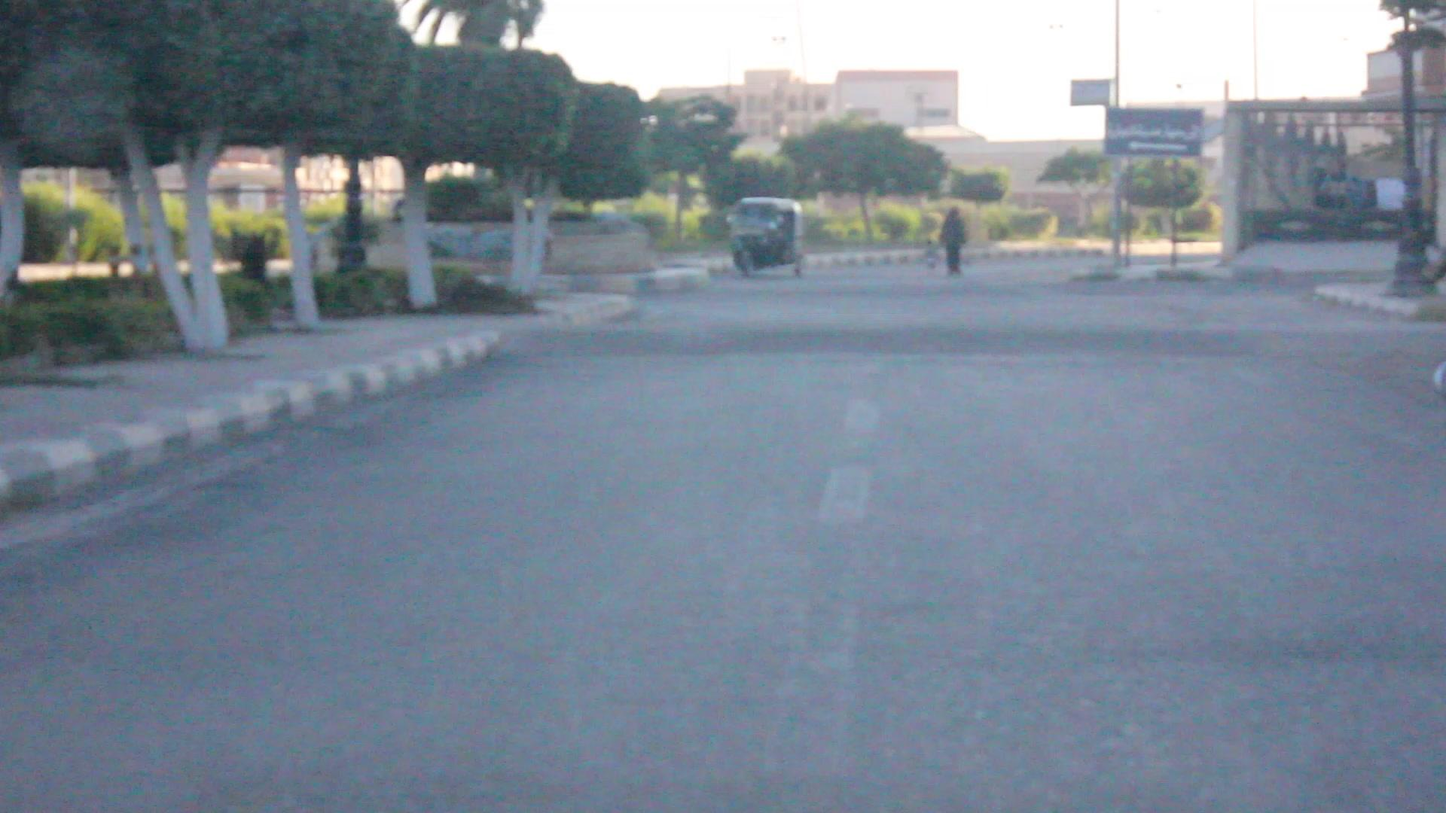Bump: (503, 324, 1435, 365)
